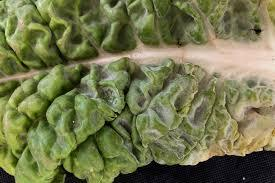Bok-Choy-Diseased: (6, 4, 274, 150)
